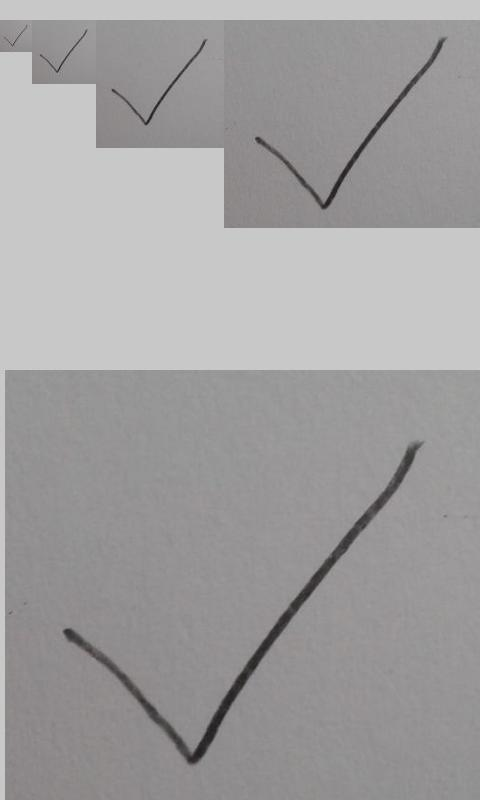check_box: (64, 444, 418, 766), (255, 37, 445, 210), (112, 39, 207, 126), (40, 29, 87, 73), (4, 25, 27, 47)
